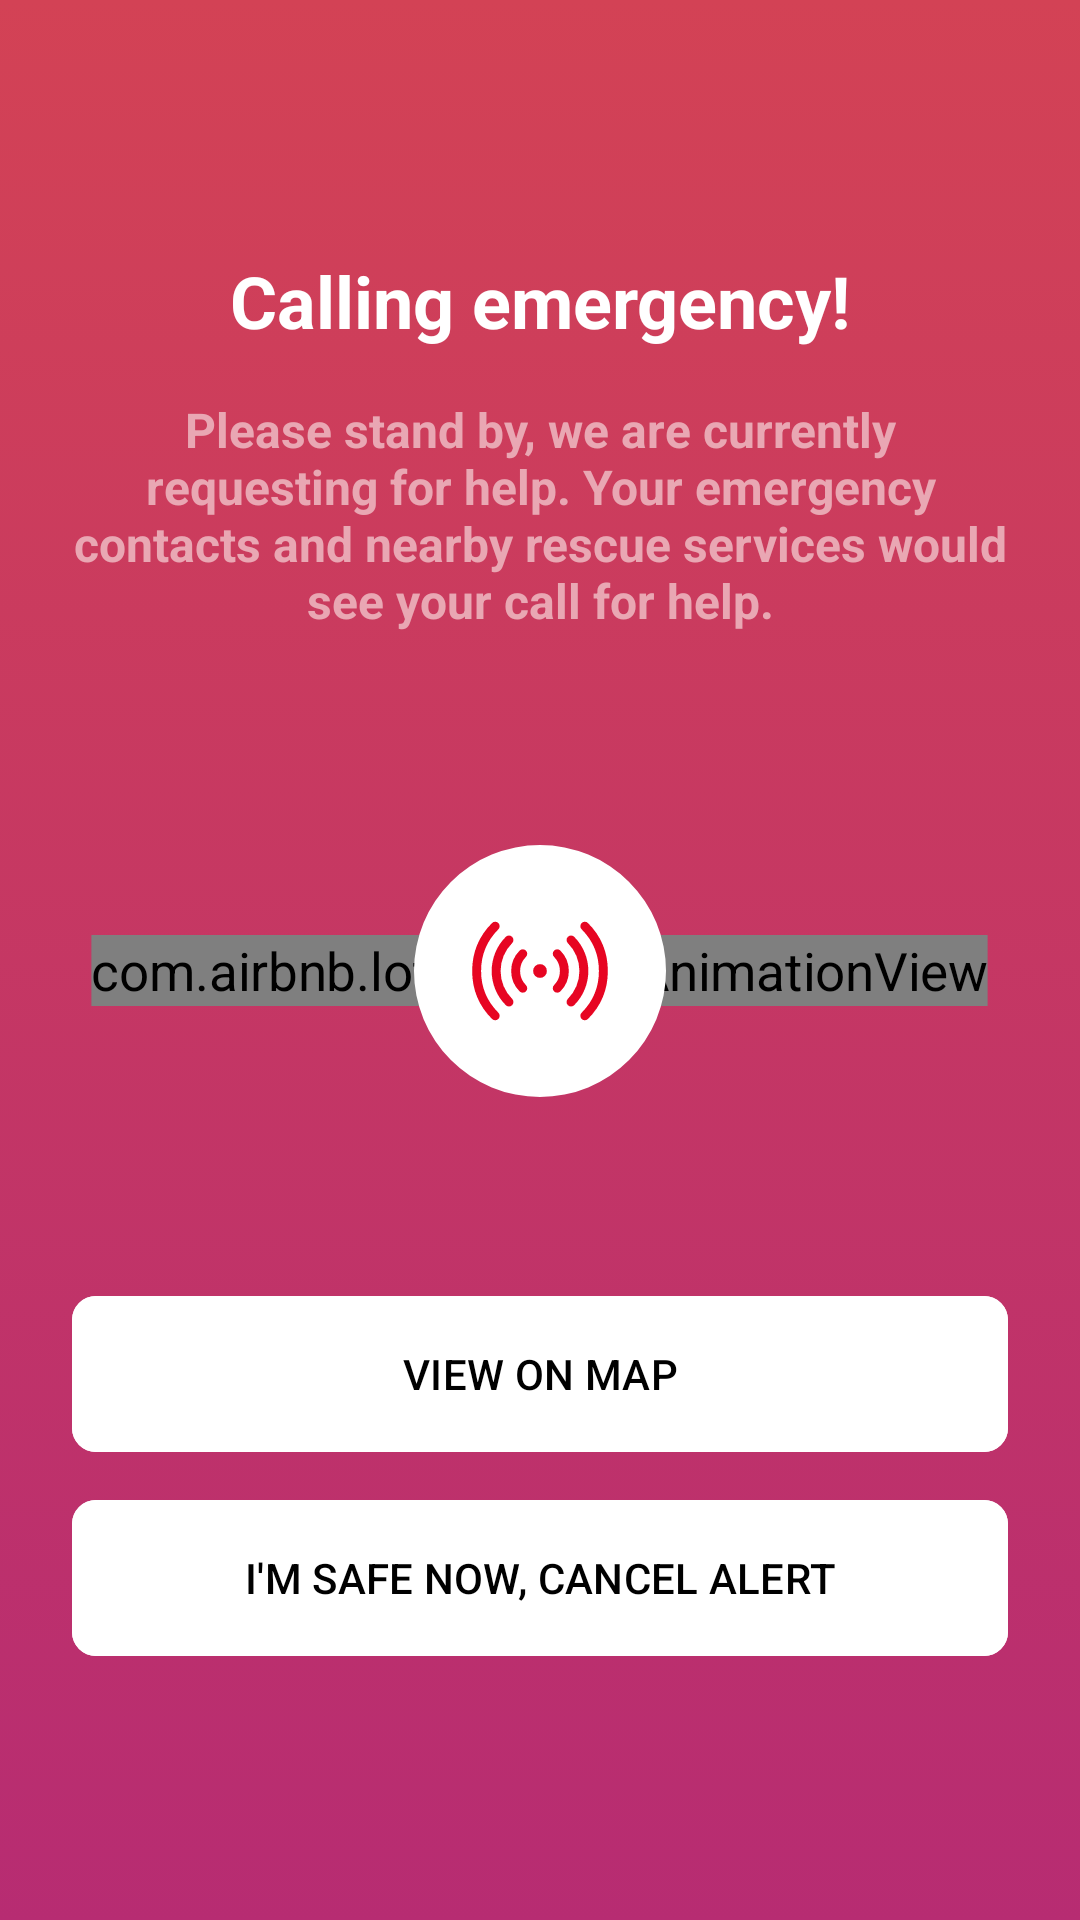

Icon click points for this 1080px×1920px phone screenshot, format [x,y]:
em call: [540,971]
